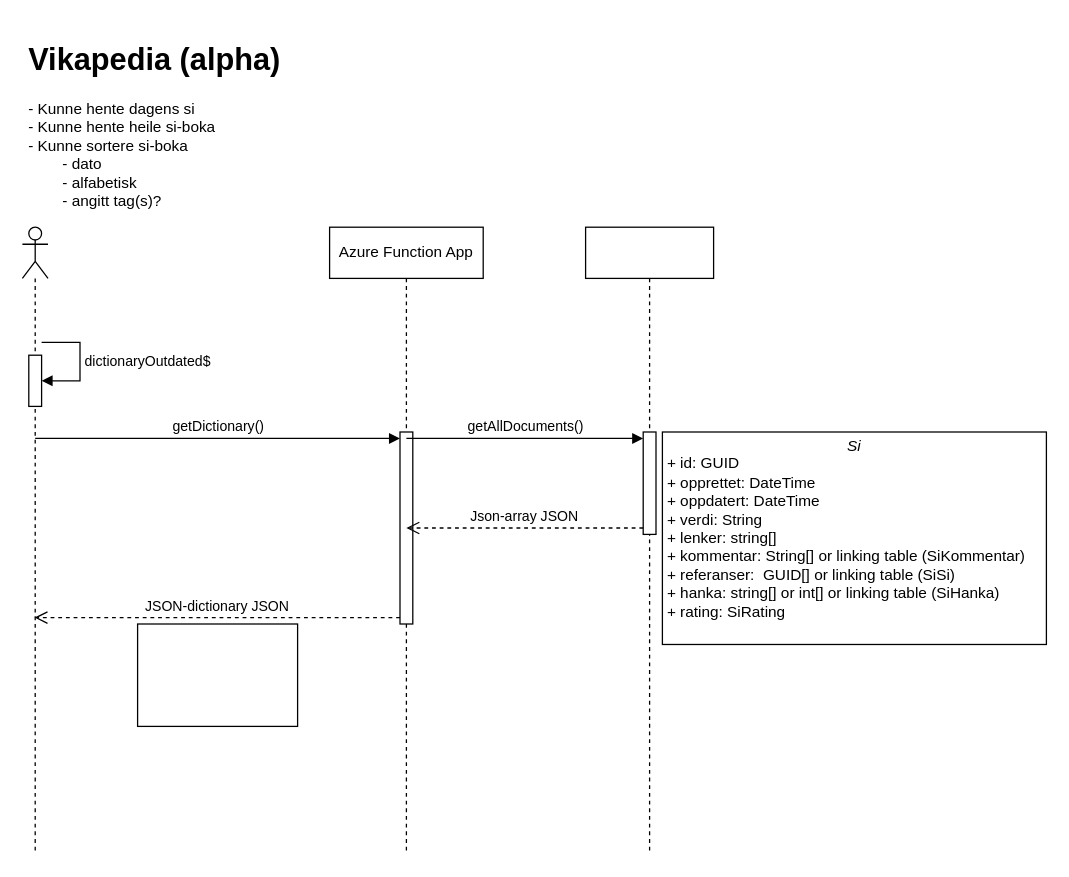
Some shapes in this 1069 by 877 pixel diagram are drawn without their labels. Each missing label, with the box of its shape:
MongoDb: (584, 226, 714, 854)
Vikasi-a - [0]: dagens si - [1,...,n]: alle si-ane: (136, 623, 298, 726)
